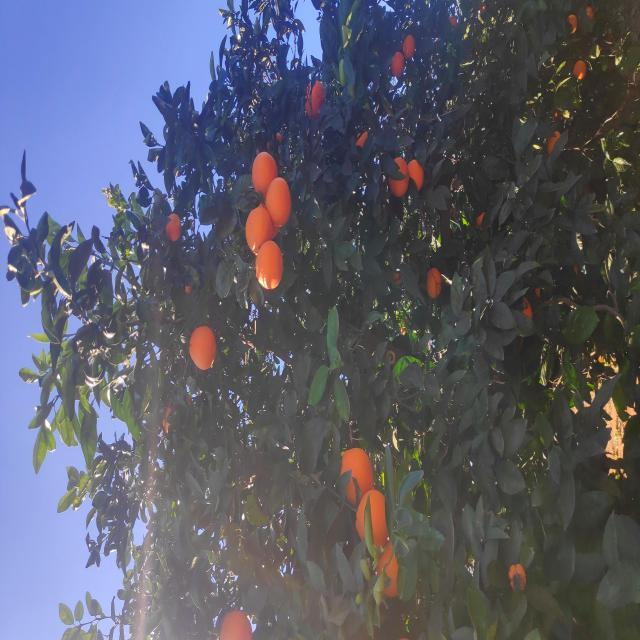Jeruk Sudah Matang: (86, 356, 151, 388), (134, 338, 193, 373), (387, 245, 438, 274), (414, 266, 464, 292), (353, 255, 398, 283), (270, 189, 316, 216), (42, 376, 96, 398), (443, 252, 490, 276), (0, 218, 31, 254), (444, 390, 484, 408), (524, 304, 560, 323), (449, 408, 482, 423), (342, 427, 374, 441), (52, 510, 76, 526), (400, 167, 428, 180), (564, 391, 589, 404), (558, 572, 581, 586), (582, 403, 607, 415), (317, 521, 343, 532), (489, 548, 510, 560), (607, 568, 626, 578), (494, 356, 509, 368), (624, 587, 634, 593)
